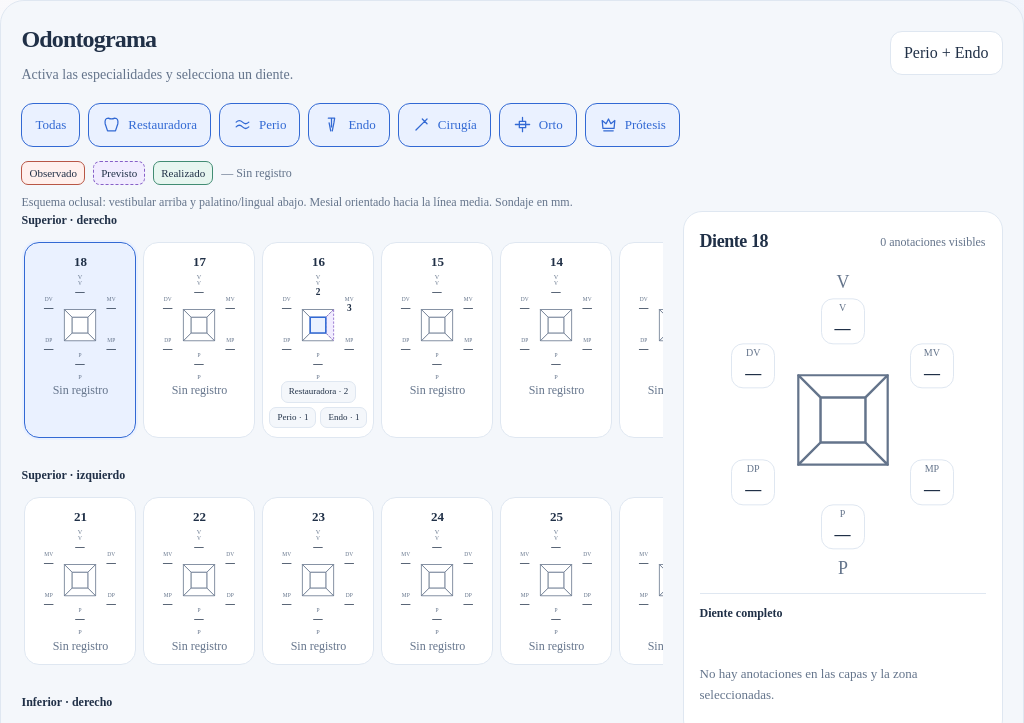
Test case: OdontogramVisual › shows the chosen tooth's findings grouped by layer with location, note and date
Click the button with aria-label "Diente 16, 4 anotaciones visibles, con sondaje registrado": (318, 340) [262, 242, 374, 438]
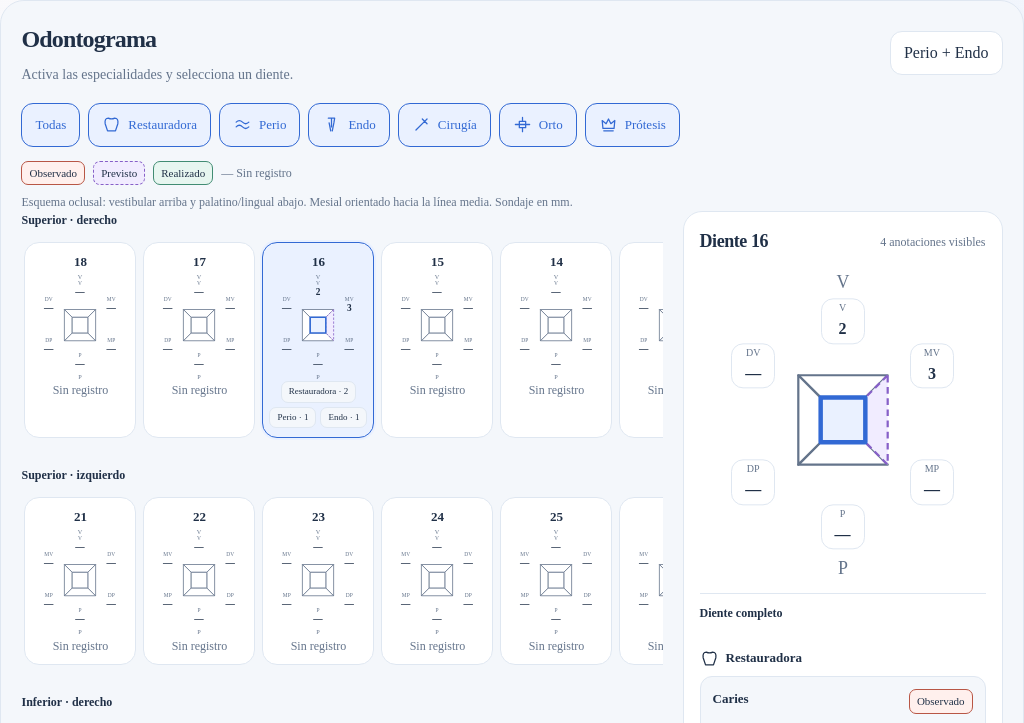
expect the heading "Diente 16" is shown: met, box [700, 228, 768, 256]
expect the text "4 anotaciones visibles" is shown: met, box [880, 233, 986, 251]
expect the heading "Restauradora" is shown: met, box [700, 649, 802, 668]
